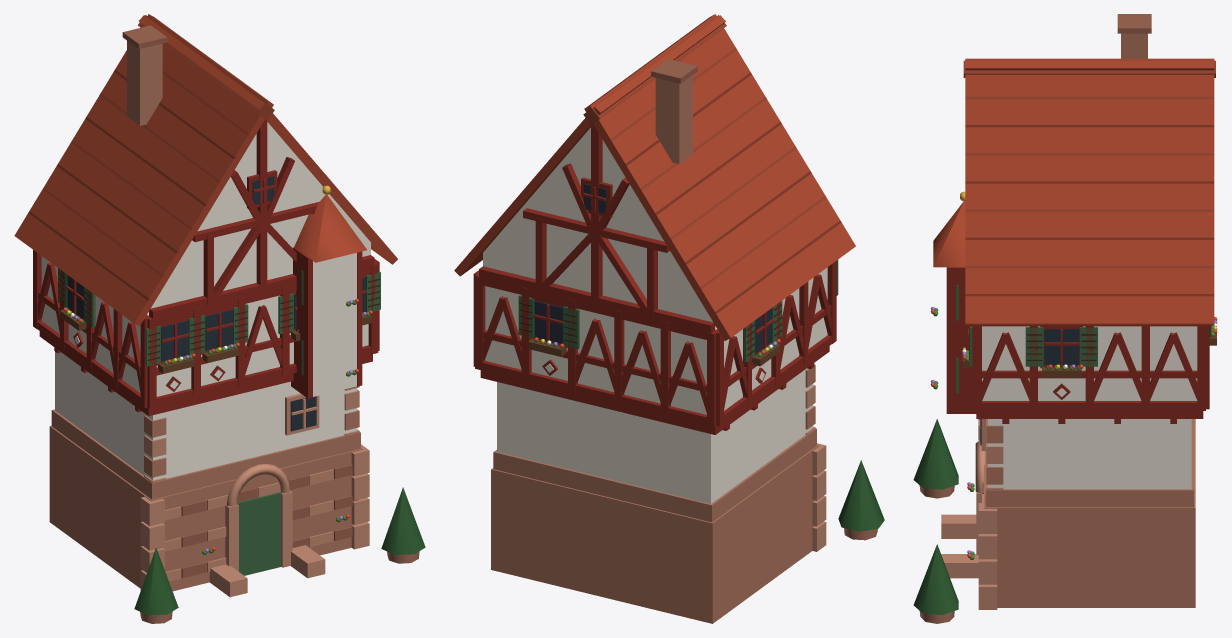
The model's file is wohnhaus_3.glb.
3 views of the same model, side by side, from view 1: azimuth 30°, elevation 25°; view 2: azimuth 150°, elevation 25°; view 3: azimuth 270°, elevation 25° (orthographic). The views are drawn at different scales.
Bounding box in the file's own units: 4.05 × 6.67 × 3.59.
